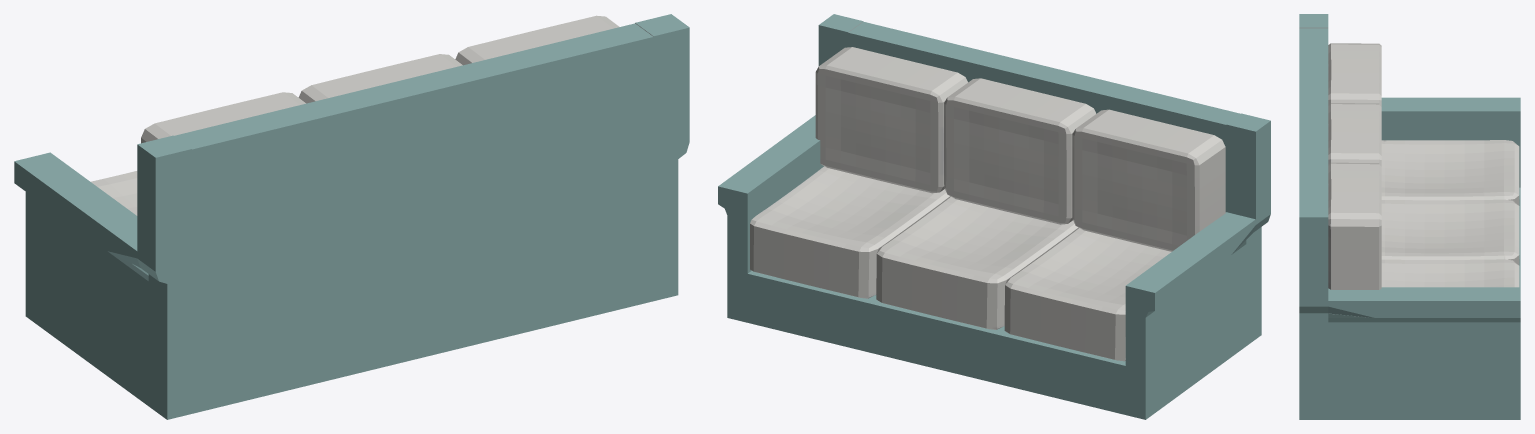
3 renders of one model, left to right at view 1: azimuth 30°, elevation 25°; view 2: azimuth 150°, elevation 25°; view 3: azimuth 270°, elevation 25°, orthographic. The views are drawn at different scales.
Parts seen in each view (by area): view 1: Kostka.002; view 2: Kostka.002; view 3: Kostka.002.
Part boxes in pixels (left/top/right/bottom): Kostka.002: left=14, top=14, right=689, bottom=419; Kostka.002: left=718, top=14, right=1270, bottom=419; Kostka.002: left=1299, top=14, right=1520, bottom=419.
Bounding box in the file's own units: 1863 × 883 × 855.
Materials: 1 (1 with a texture image).
